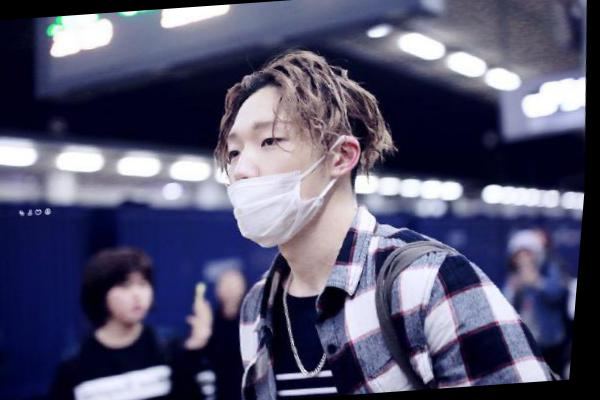NONE: (111, 275, 163, 327)
WRONG: (223, 101, 332, 251)
